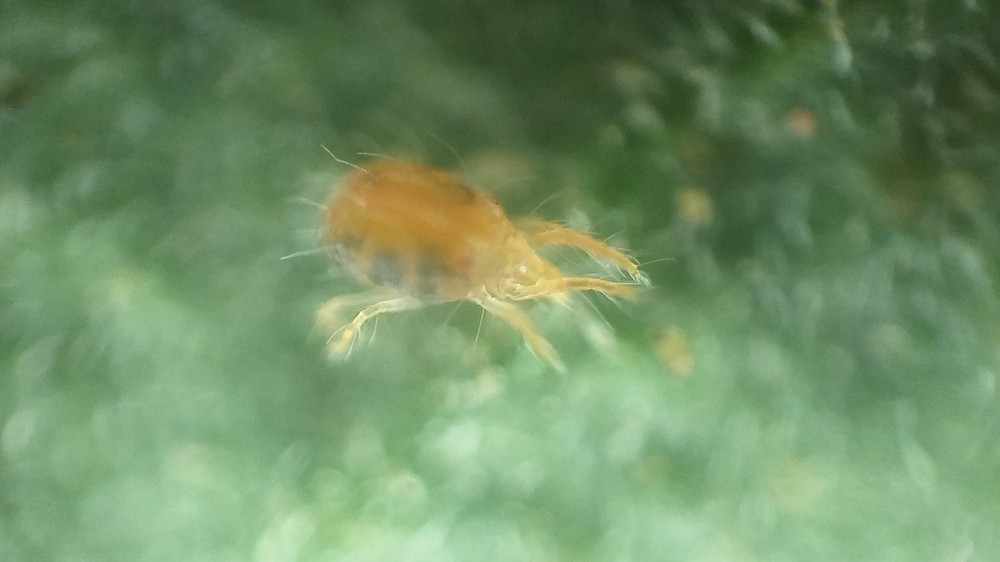Aracnido Rojo: (285, 136, 672, 378)
